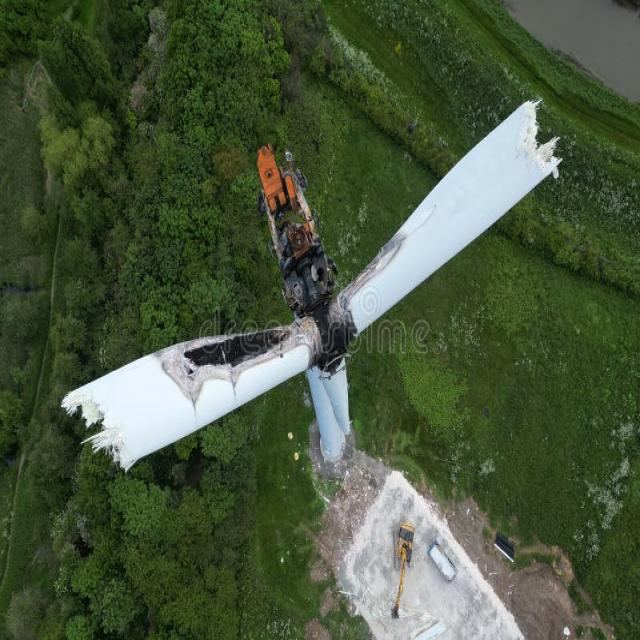damaged-blade: (340, 101, 560, 333), (62, 317, 320, 468)
